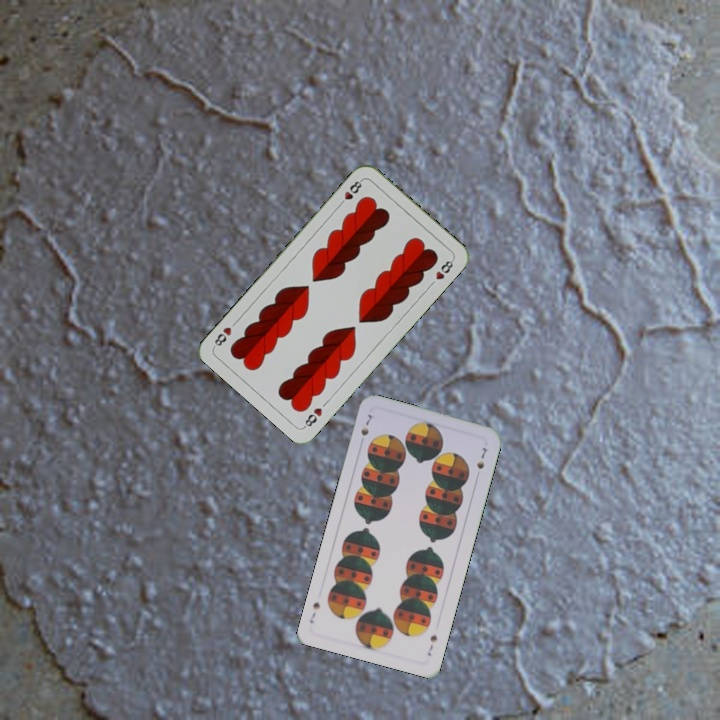H8: (300, 397, 331, 430), (335, 175, 365, 209)
S7: (357, 410, 375, 438), (423, 631, 440, 659)
